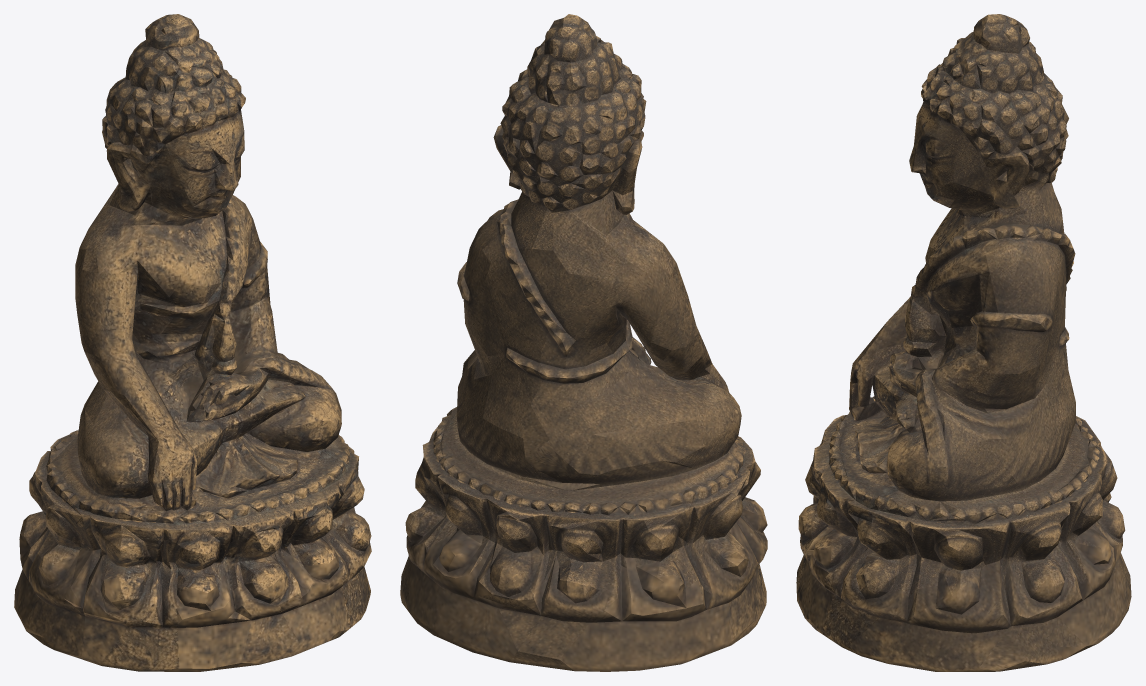
The model's file is remeshed-kring.glb.
3 renders of one model, left to right at view 1: azimuth 30°, elevation 25°; view 2: azimuth 150°, elevation 25°; view 3: azimuth 270°, elevation 25°, orthographic. The views are drawn at different scales.
Visible parts, largest first — view 1: output_unwrapped; view 2: output_unwrapped; view 3: output_unwrapped.
Part boxes in pixels (<box>): output_unwrapped: <box>14,14,371,671</box>; output_unwrapped: <box>400,14,767,671</box>; output_unwrapped: <box>796,14,1131,671</box>.
Size of the model in its own units: 1.08 by 1.9 by 0.9919.
1 material, 1 textured.
